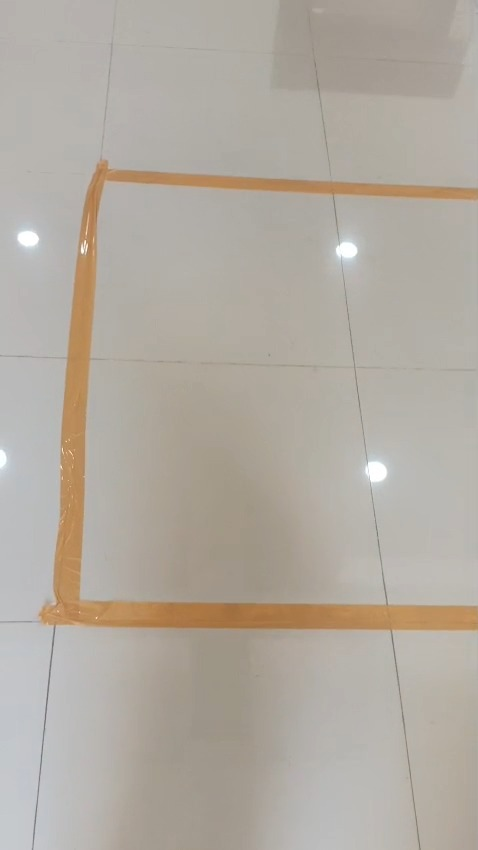floor marking: (41, 161, 477, 630)
